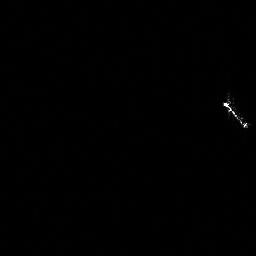ship: (219, 98, 250, 131)
